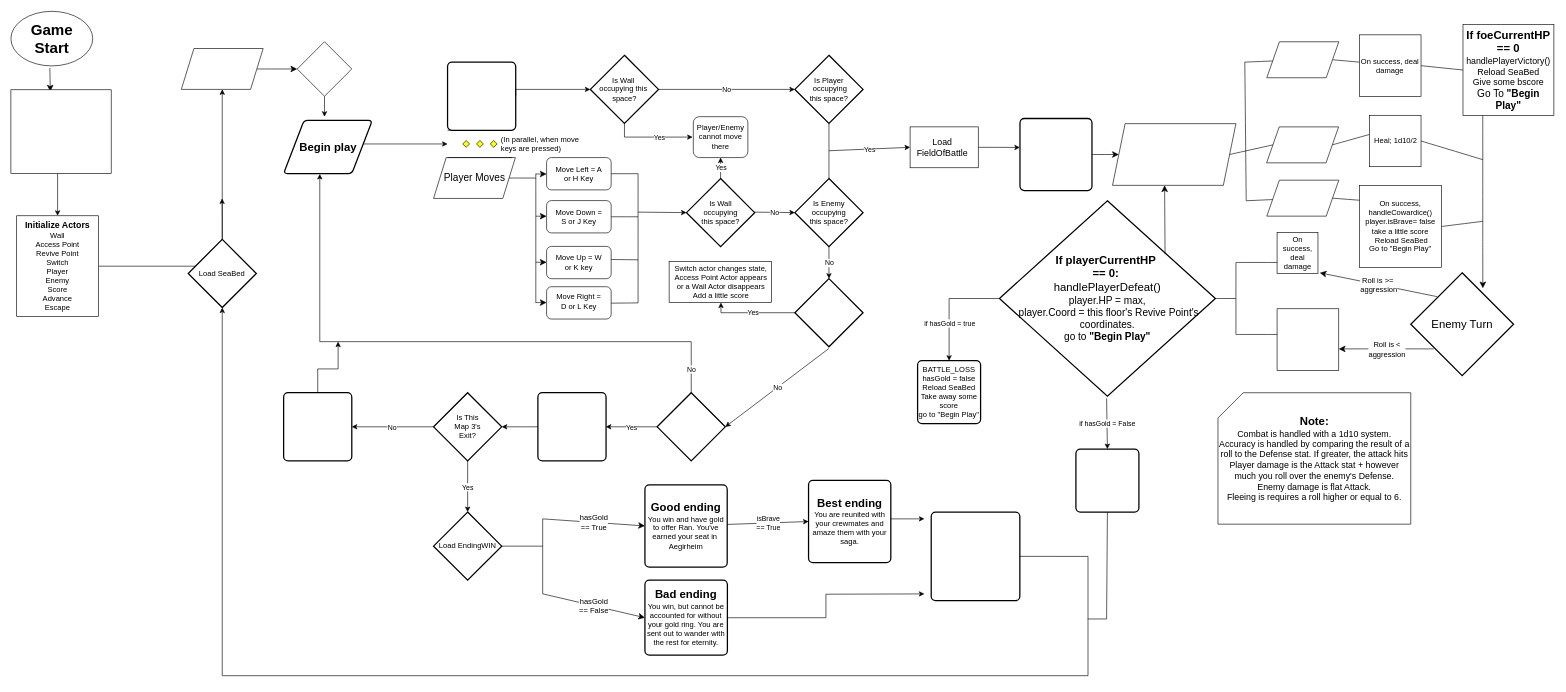
The diagram is 1566 pixels wide and 692 high, and some of its shapes have lost their labels. Here are the shapes that lost their labels. From the top down, the centre of each, then its label:
(222,68): Print First Map
(1302,59): Attack
(481,96): Enemies Move
(60,131): Initialize World SeaBed SeaBedTEMPLATE FieldOfBattle EndingWIN EndingLOSE
(1302,144): Heal
(1055,154): Combat Start
(1174,154): Player Turn
(1302,198): Run
(828,312): Is Switch occupying this space?
(1307,339): Foe does nothing, giving flavor text
(317,426): Print Next Map
(571,426): Unload Current Map
(691,426): Does the player share a space with an escape actor?
(1107,480): LOSE_STATE Load EndingLOSE
(975,556): "Thank you for playing. Would you like to play again?"
